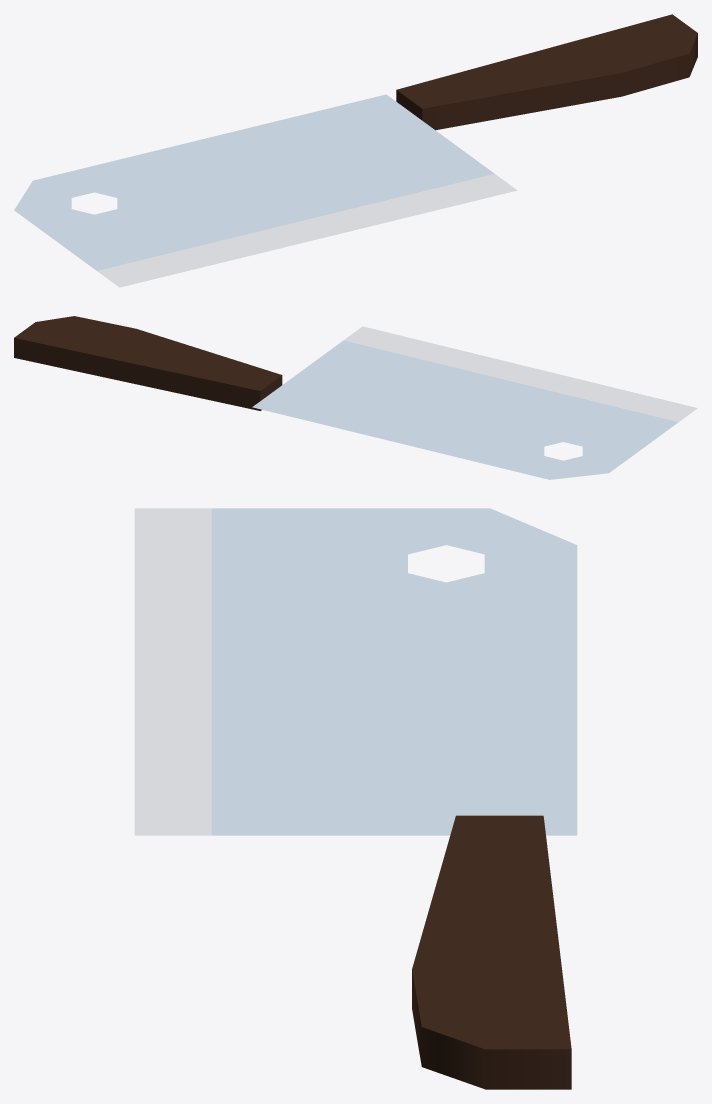
File: Cooking_Knife_Chopping.glb
3 views of the same model, one above another, from view 1: azimuth 30°, elevation 25°; view 2: azimuth 150°, elevation 25°; view 3: azimuth 270°, elevation 25° (orthographic). The views are drawn at different scales.
Visible parts, largest first — view 1: cookingKnifeChopping; view 2: cookingKnifeChopping; view 3: cookingKnifeChopping.
Boxes of the visible parts, x1,y1,x2,y2 form: cookingKnifeChopping: (14, 14, 697, 287); cookingKnifeChopping: (14, 316, 697, 479); cookingKnifeChopping: (134, 508, 577, 1089).
Bounding box in the file's own units: 0.6 × 0.02 × 0.2.
